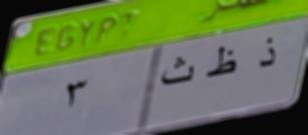3: (58, 72, 98, 111)
Thaa: (203, 46, 241, 85)
thaa: (157, 47, 195, 92)
zaal: (253, 30, 280, 74)
